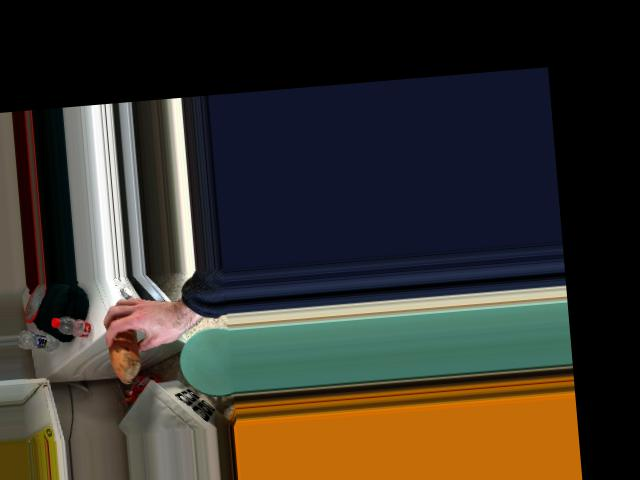sweet_potato: (107, 326, 140, 373)
